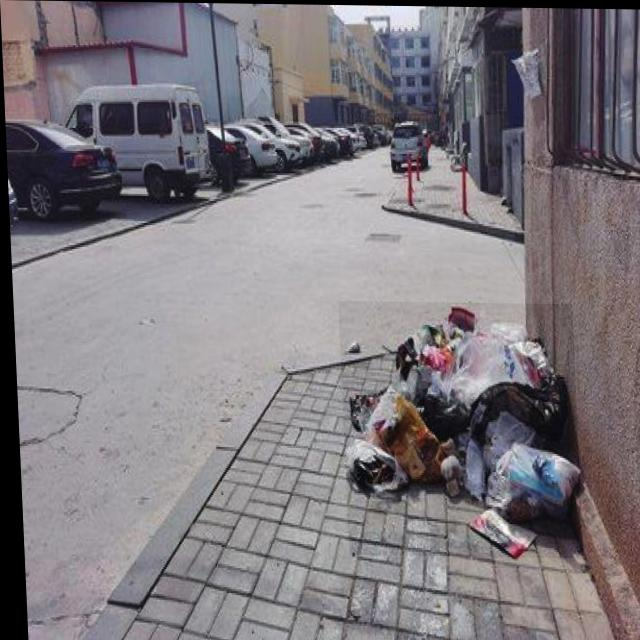garbage: (335, 300, 578, 556)
